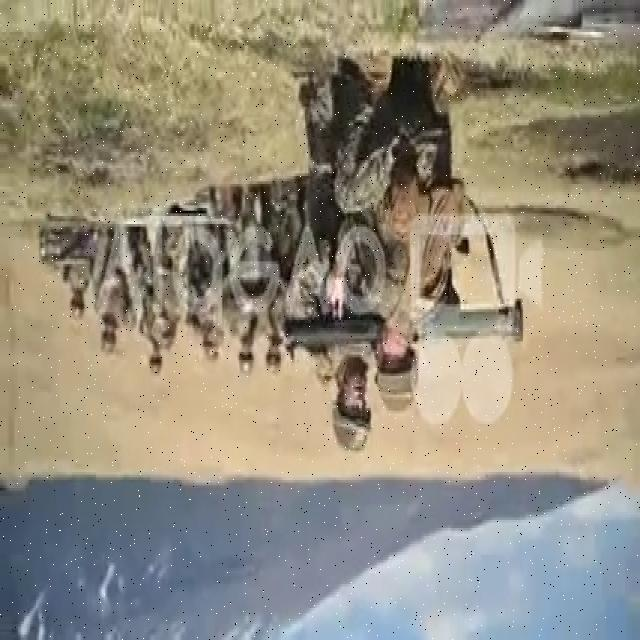bazooka: (277, 295, 530, 355)
